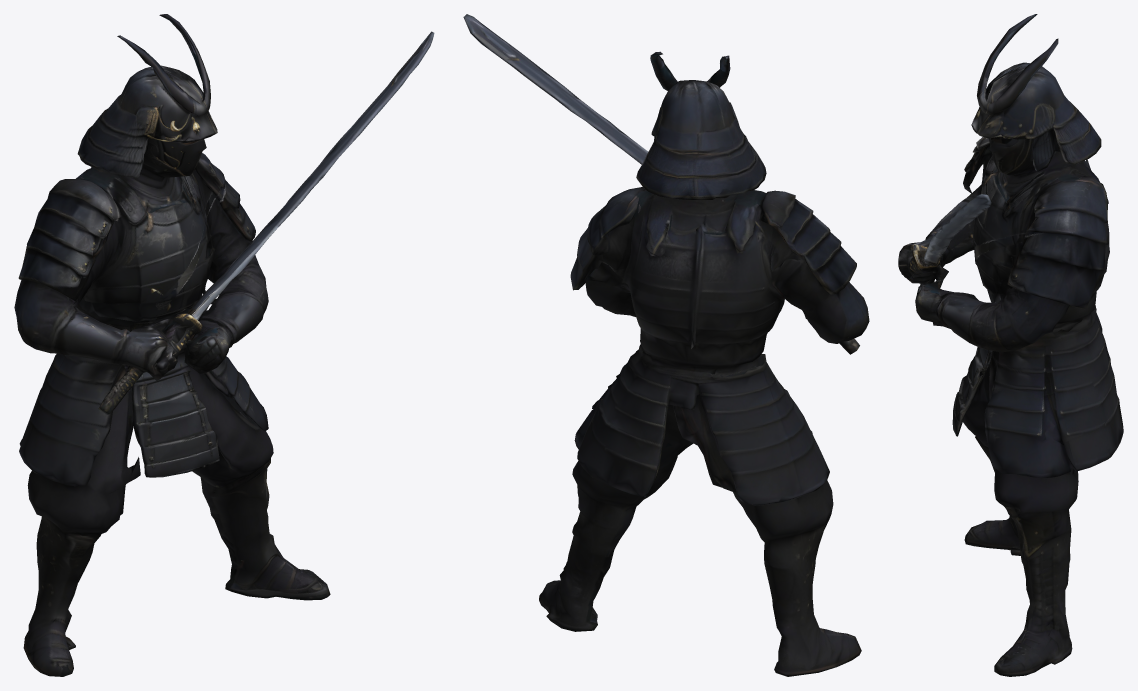
Rendered from Shadow_Samurai_0421124229_texture.glb.
3 renders of one model, left to right at view 1: azimuth 30°, elevation 25°; view 2: azimuth 150°, elevation 25°; view 3: azimuth 270°, elevation 25°, orthographic. The views are drawn at different scales.
Bounding box in the file's own units: 1.43 × 2 × 0.714.
1 material, 1 textured.
